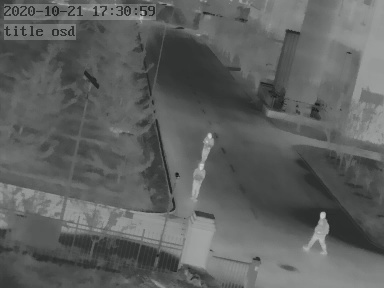person: (304, 210, 328, 251), (192, 164, 205, 200), (201, 131, 213, 163)
